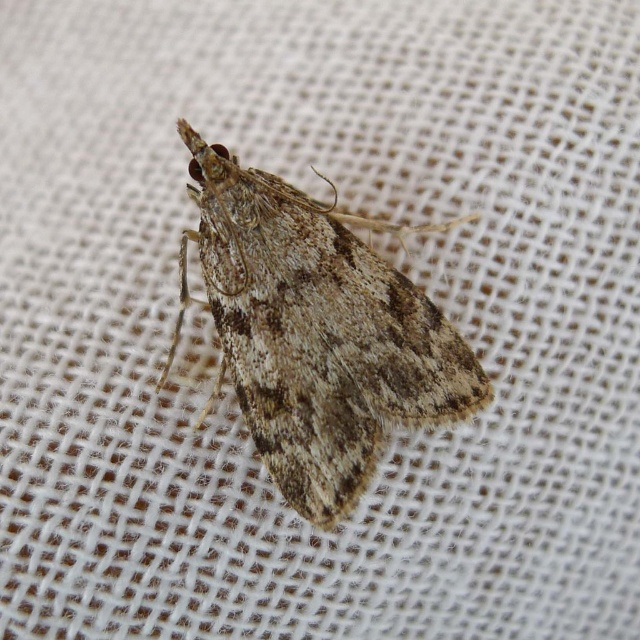Moths and butterflies: (153, 112, 500, 525)
